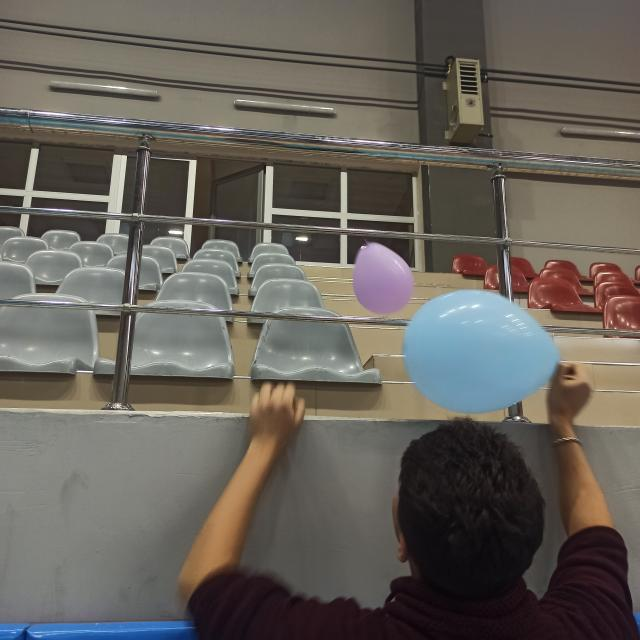balloon: (402, 290, 565, 413), (351, 242, 417, 312)
